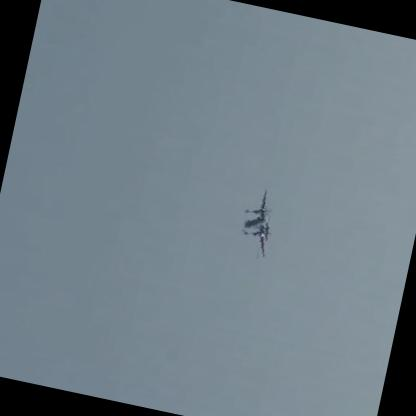plane: (232, 181, 287, 262)
